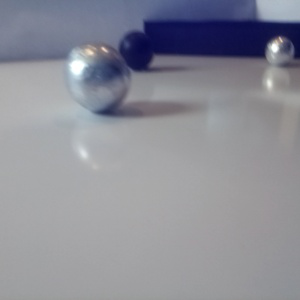zone: (144, 19, 300, 58)
